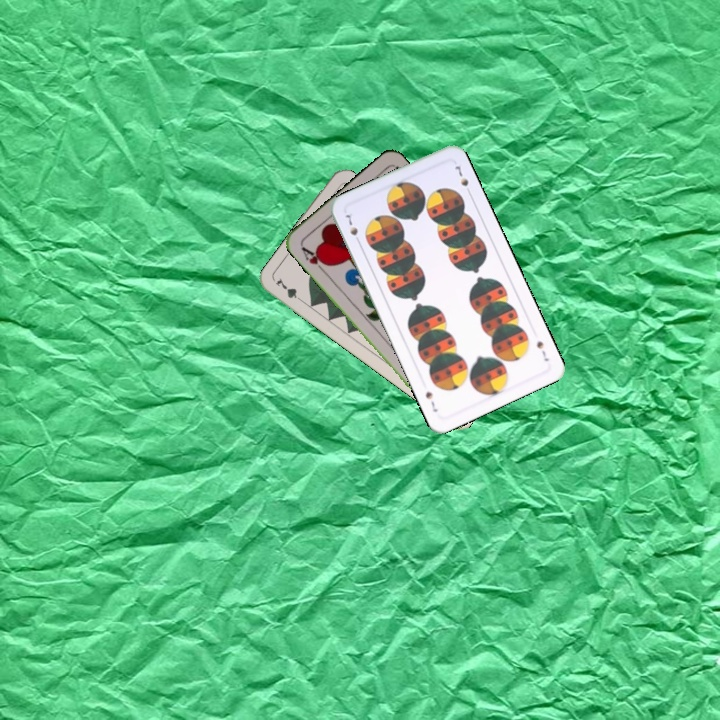G7: (272, 274, 307, 306)
HA: (297, 242, 331, 275)
S7: (342, 210, 363, 247), (532, 336, 552, 364)
